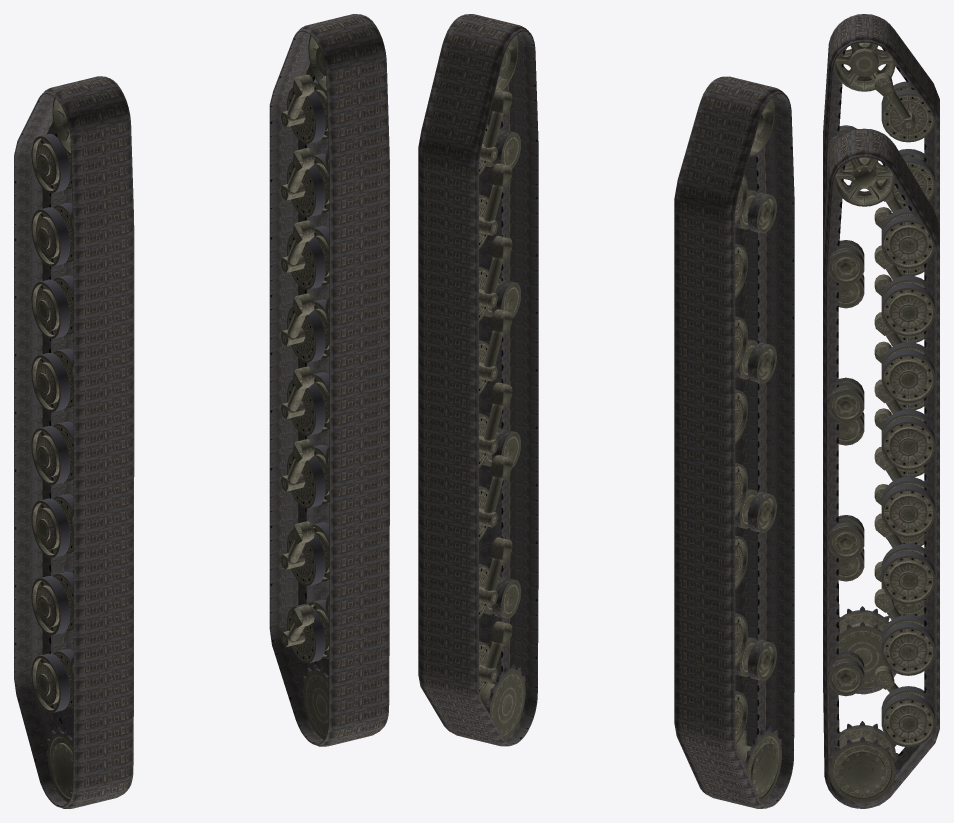
File: Chassis.glb
The picture shows the model from 3 angles, left to right: view 1: azimuth 30°, elevation 25°; view 2: azimuth 150°, elevation 25°; view 3: azimuth 270°, elevation 25°; orthographic projection. The views are drawn at different scales.
Visible parts, largest first — view 1: set_3_group_0, set_2_group_0, set_0_group_0, set_1_group_0; view 2: set_3_group_0, set_2_group_0, set_0_group_0, set_1_group_0; view 3: set_0_group_0, set_2_group_0, set_1_group_0, set_3_group_0.
Boxes of the visible parts, left/top/right/bottom form: set_3_group_0: left=14, top=76, right=134, bottom=808; set_2_group_0: left=269, top=14, right=389, bottom=746; set_0_group_0: left=280, top=35, right=378, bottom=742; set_1_group_0: left=31, top=98, right=122, bottom=804; set_3_group_0: left=674, top=76, right=794, bottom=808; set_2_group_0: left=418, top=14, right=538, bottom=746; set_0_group_0: left=456, top=35, right=525, bottom=742; set_1_group_0: left=708, top=98, right=781, bottom=804; set_0_group_0: left=828, top=157, right=935, bottom=802; set_2_group_0: left=823, top=128, right=939, bottom=808; set_1_group_0: left=828, top=42, right=935, bottom=687; set_3_group_0: left=823, top=14, right=939, bottom=694.
Size of the model in its own units: 3.66 by 7.94 by 1.28.
Materials: 4 (4 with a texture image).
